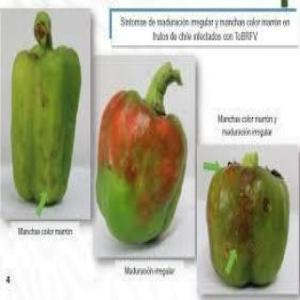bell_pepper: (94, 58, 189, 255)
